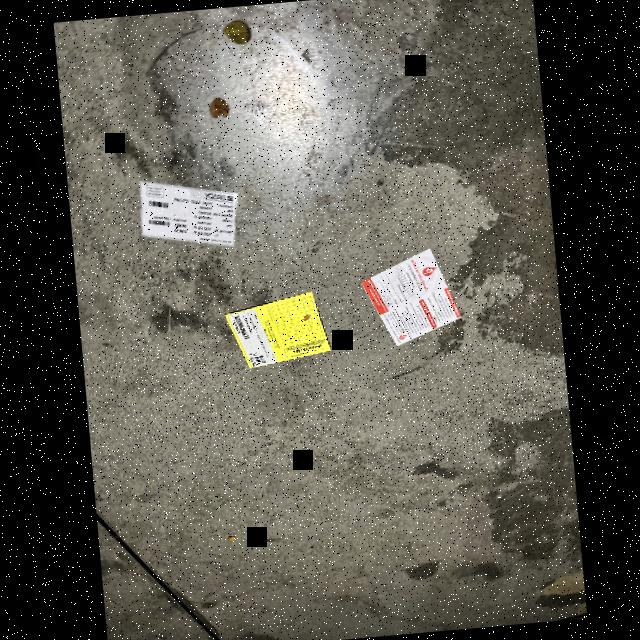scrap_paper: (358, 239, 468, 351), (222, 286, 348, 380), (132, 162, 252, 260)
